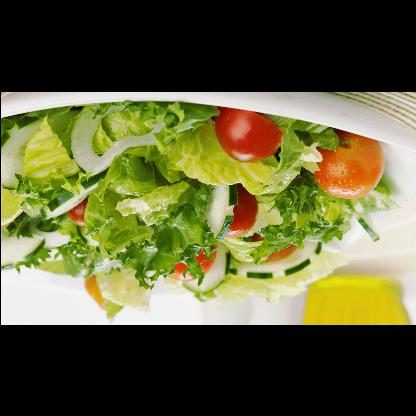salad: (1, 101, 400, 325)
